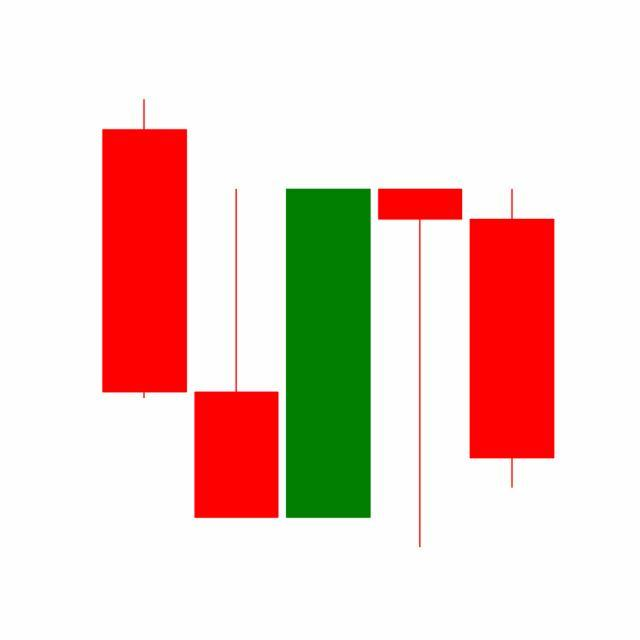Hammer: (374, 185, 468, 553)
